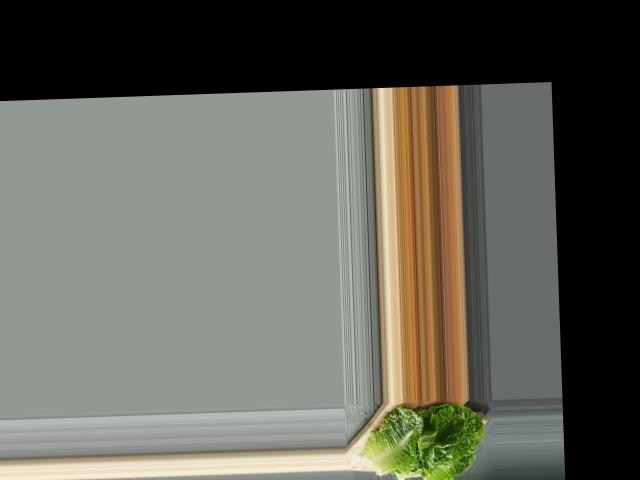lettuce: (362, 398, 490, 480)
